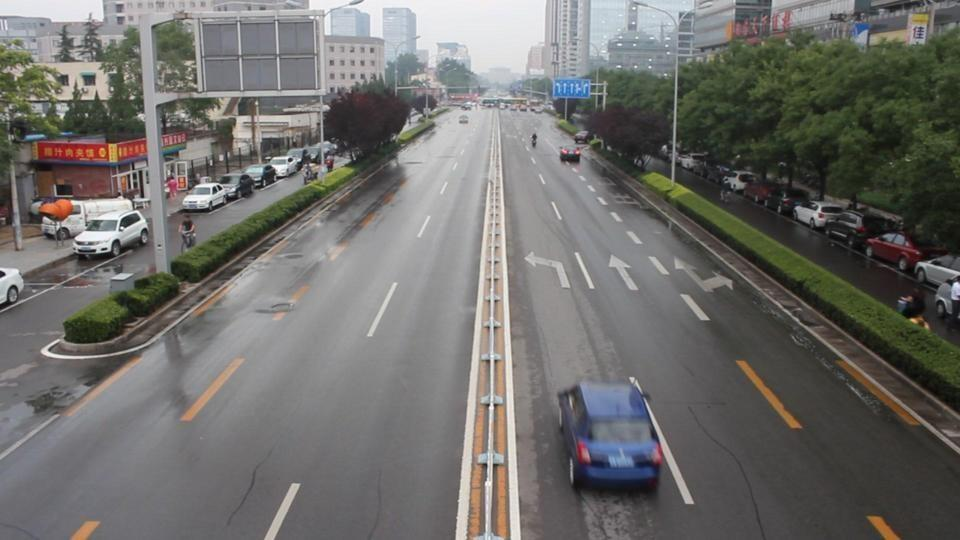car: (556, 377, 663, 491), (862, 230, 949, 277), (69, 210, 149, 259), (826, 208, 903, 253), (914, 253, 960, 296), (793, 202, 847, 232), (764, 185, 811, 216), (181, 183, 227, 212), (293, 142, 336, 171), (29, 195, 74, 221), (934, 276, 960, 321), (213, 173, 255, 200), (0, 266, 25, 311), (719, 171, 755, 200), (243, 164, 278, 189), (267, 155, 300, 178), (559, 145, 581, 164), (459, 113, 468, 125)
